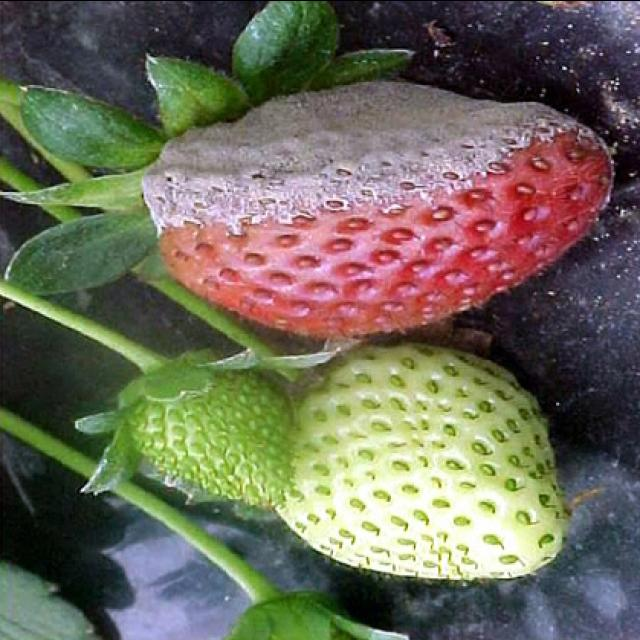Gray Mold: (140, 78, 617, 251)
